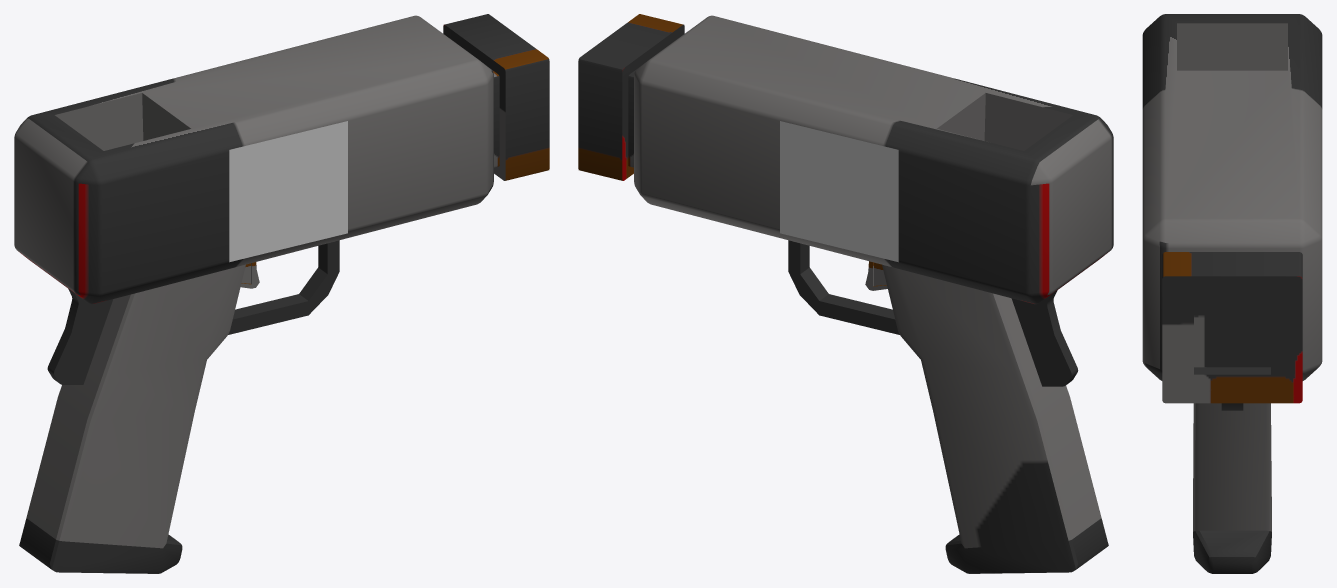
The model's file is Gun2.fbx.
3 renders of one model, left to right at view 1: azimuth 30°, elevation 25°; view 2: azimuth 150°, elevation 25°; view 3: azimuth 270°, elevation 25°, orthographic. The views are drawn at different scales.
Visible parts, largest first — view 1: Gun, Icon; view 2: Gun, Icon; view 3: Gun.
Part boxes in pixels (box(x1,y1,x2,y2)): Gun: box(14, 14, 549, 573); Icon: box(229, 121, 347, 262); Gun: box(578, 14, 1113, 573); Icon: box(780, 121, 898, 262); Gun: box(1142, 14, 1322, 573).
Bounding box in the file's own units: 3.06 × 2.74 × 0.8764.
